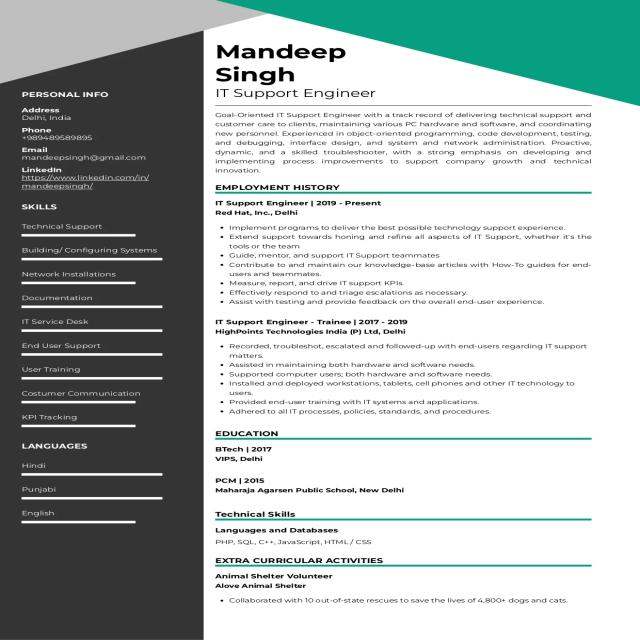contact: (14, 85, 167, 192)
education: (211, 424, 417, 502)
experience: (214, 181, 599, 421)
header: (208, 42, 388, 103)
languages: (17, 440, 169, 541)
skills: (16, 200, 169, 433), (212, 508, 404, 553)
summary: (212, 109, 611, 177)
